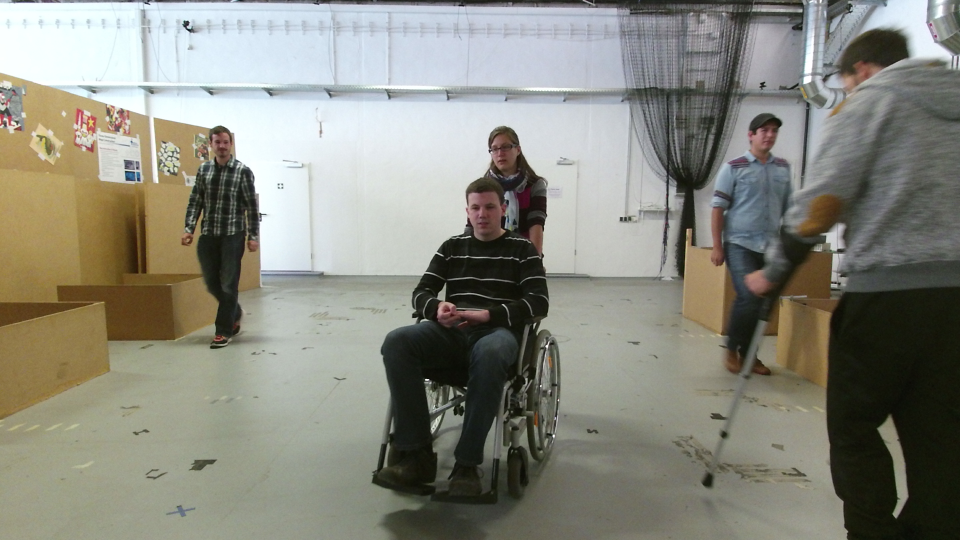crutches: (699, 21, 960, 540)
